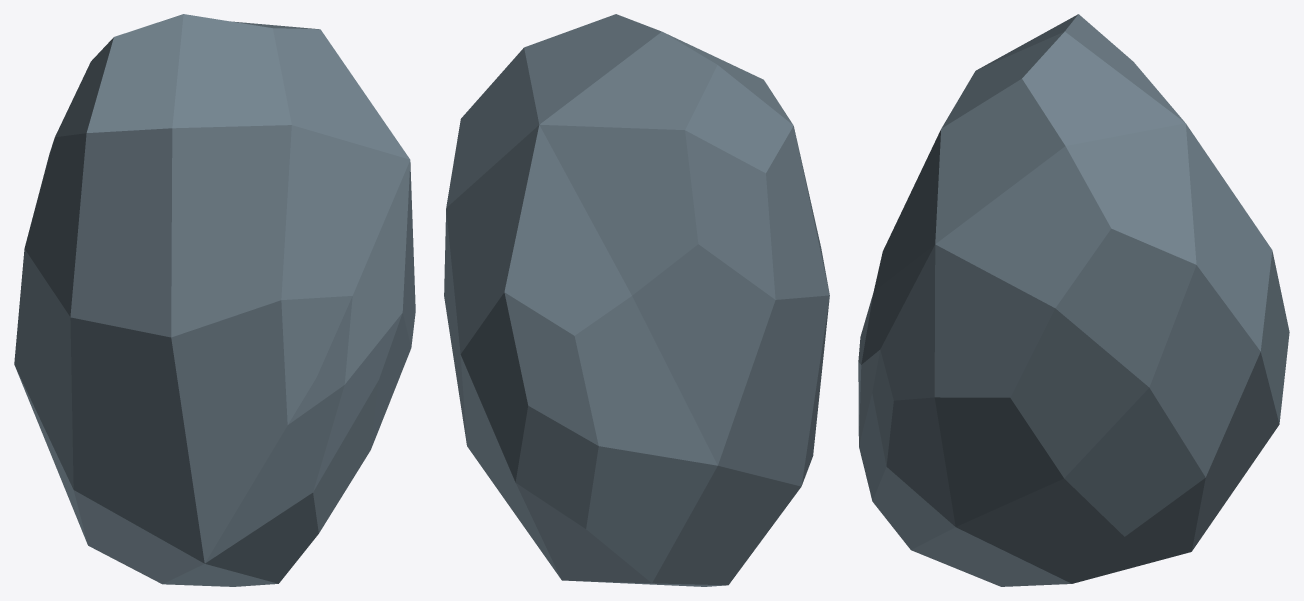
The model's file is stone1.gltf.
The picture shows the model from 3 angles, left to right: view 1: azimuth 30°, elevation 25°; view 2: azimuth 150°, elevation 25°; view 3: azimuth 270°, elevation 25°; orthographic projection.
Parts seen in each view (by area): view 1: Cube; view 2: Cube; view 3: Cube.
Part boxes in pixels (bbox=[...]): Cube: bbox=[14, 14, 415, 586]; Cube: bbox=[444, 14, 829, 586]; Cube: bbox=[858, 14, 1289, 586].
Bounding box in the file's own units: 2 × 3.15 × 2.25.
